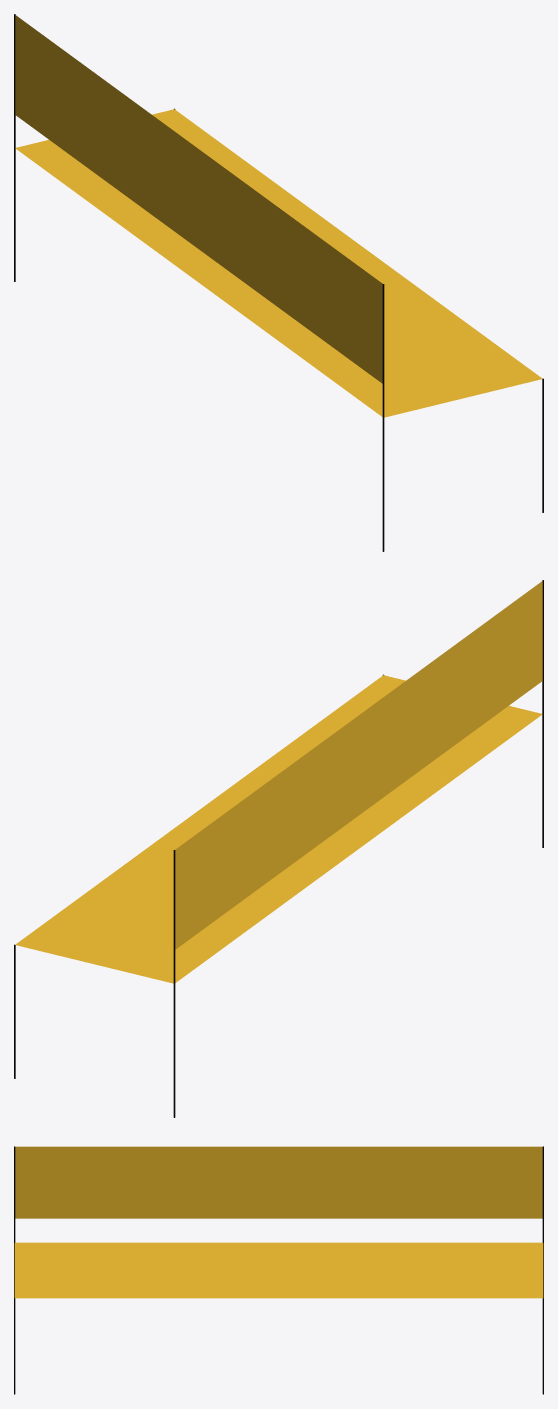
File: bench-3d.glb
The picture shows the model from 3 angles, top to bottom: view 1: azimuth 30°, elevation 25°; view 2: azimuth 150°, elevation 25°; view 3: azimuth 270°, elevation 25°; orthographic projection. The views are drawn at different scales.
Parts seen in each view (by area): view 1: Plane.003, Plane.002, Cylinder; view 2: Plane.003, Plane.002, Cylinder.001; view 3: Plane.003, Plane.002.
Boxes of the visible parts, x1,y1,x2,y2 form: Plane.003: [15, 15, 382, 383]; Plane.002: [15, 109, 542, 417]; Cylinder: [382, 284, 384, 551]; Plane.003: [175, 581, 542, 949]; Plane.002: [15, 675, 542, 983]; Cylinder.001: [173, 850, 175, 1117]; Plane.003: [15, 1146, 542, 1218]; Plane.002: [14, 1242, 543, 1298].
Size of the model in its own units: 0.505 by 0.8 by 2.
